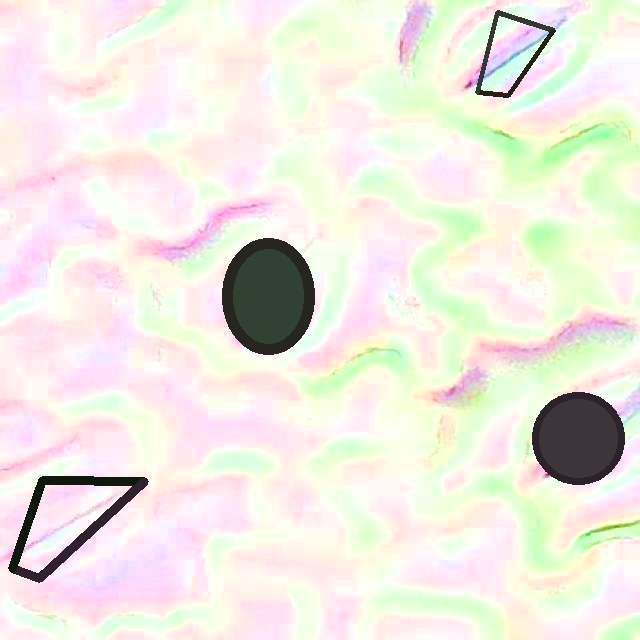close: (9, 476, 147, 581)
open: (222, 238, 314, 353), (533, 393, 624, 484), (475, 10, 555, 97)
